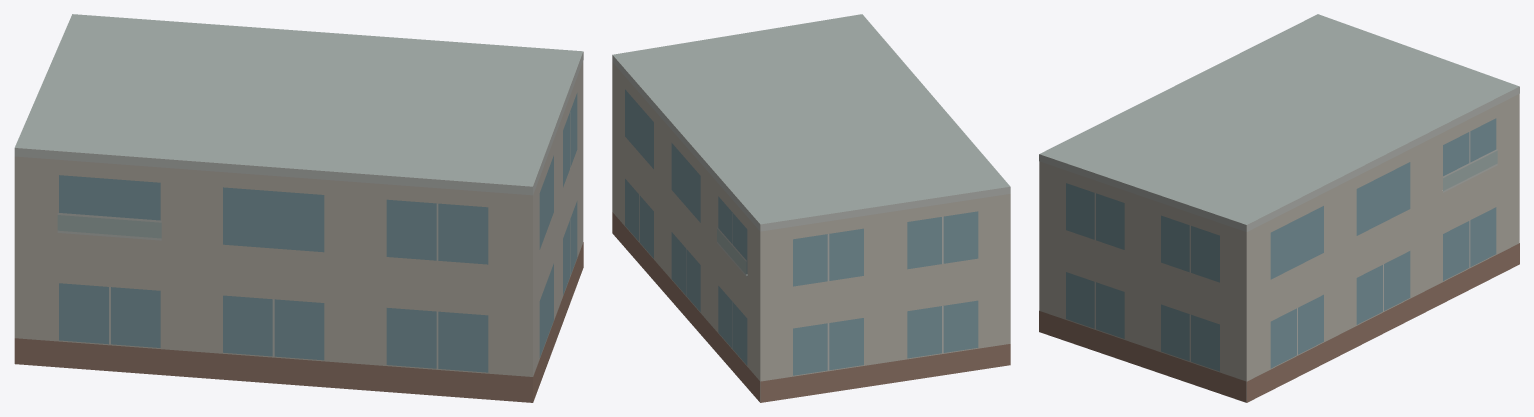
The model's file is survey-upis-32663676.glb.
3 views of the same model, side by side, from view 1: azimuth 30°, elevation 25°; view 2: azimuth 150°, elevation 25°; view 3: azimuth 270°, elevation 25° (orthographic). The views are drawn at different scales.
Parts seen in each view (by area): view 1: survey-upis-32663676.tmp; view 2: survey-upis-32663676.tmp; view 3: survey-upis-32663676.tmp.
Boxes of the visible parts, x1=… form: survey-upis-32663676.tmp: x1=14, y1=14, x2=583, y2=402; survey-upis-32663676.tmp: x1=612, y1=14, x2=1010, y2=402; survey-upis-32663676.tmp: x1=1039, y1=14, x2=1519, y2=402.
Bounding box in the file's own units: 15.53 × 6.1 × 14.95.
